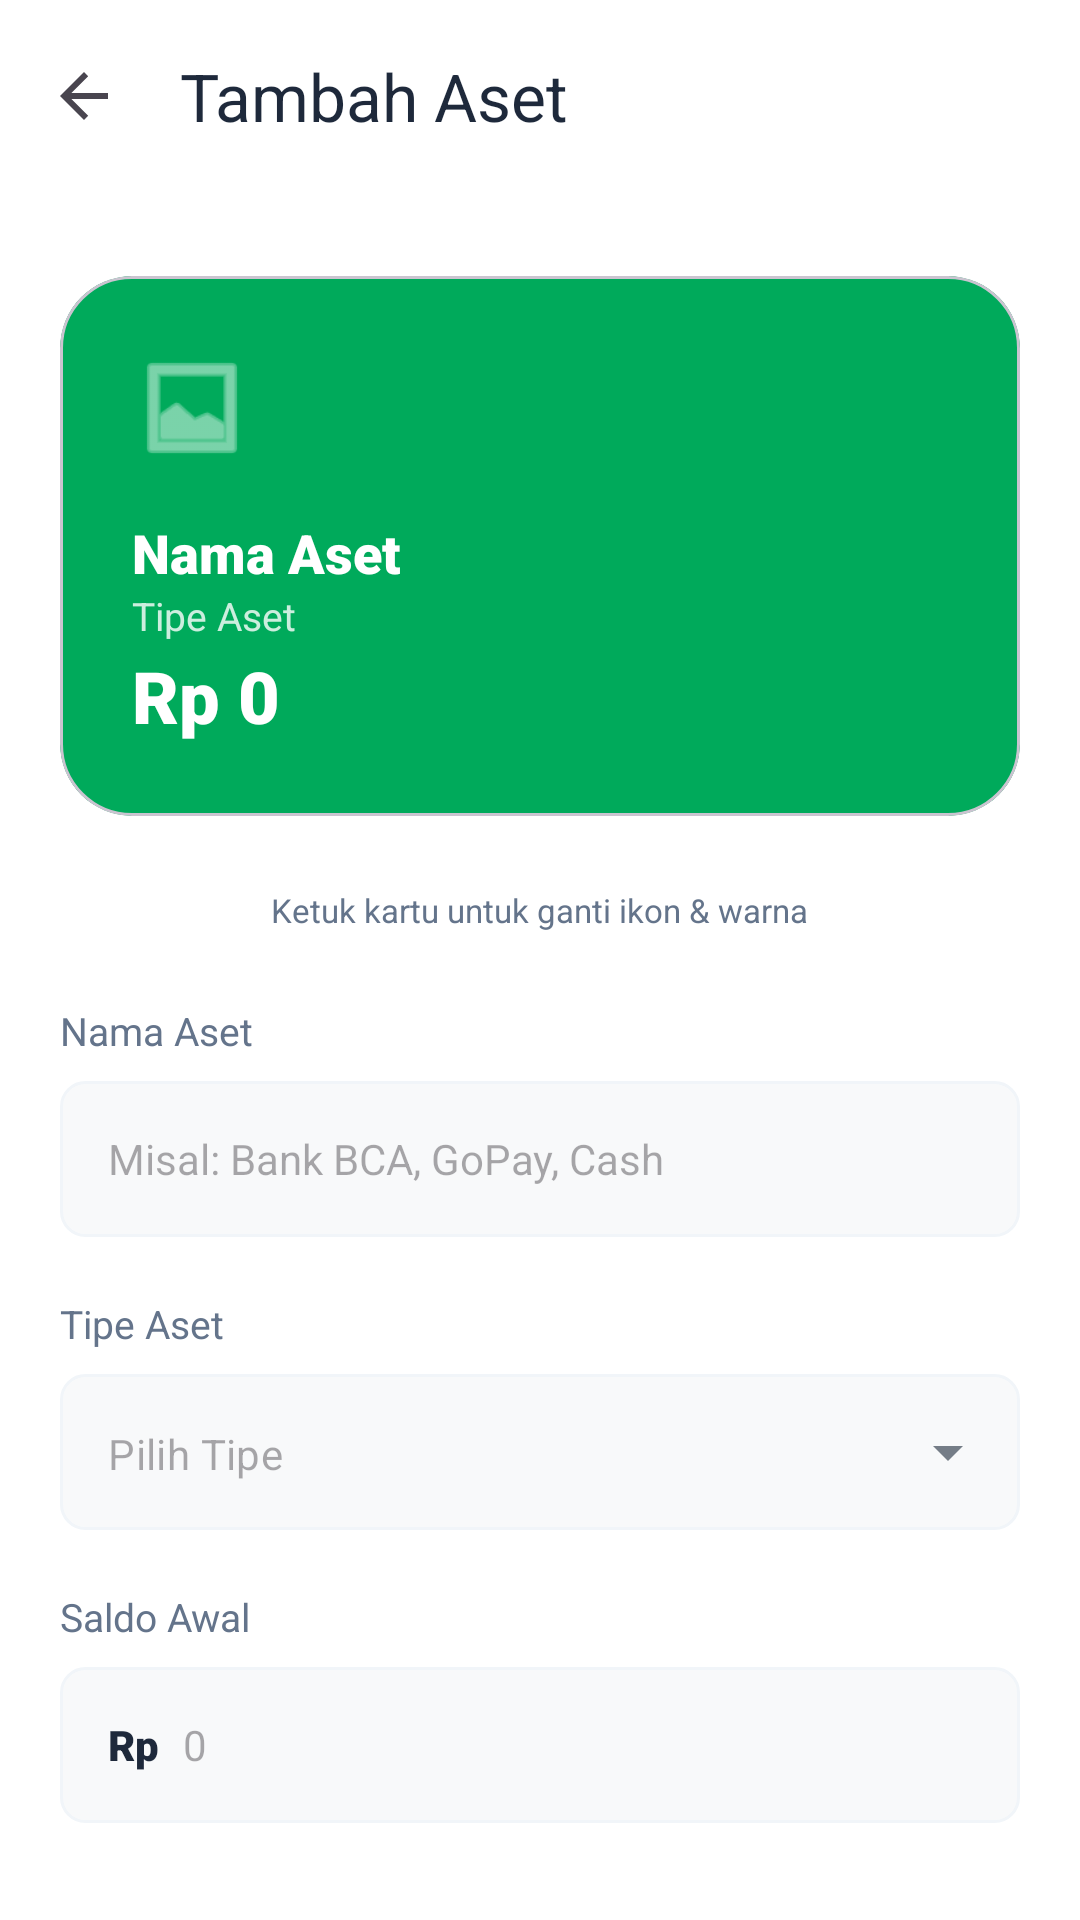

Named icons in this screenshot (1080x1920) and their centers, [x,y]:
gallery: [192,408]
